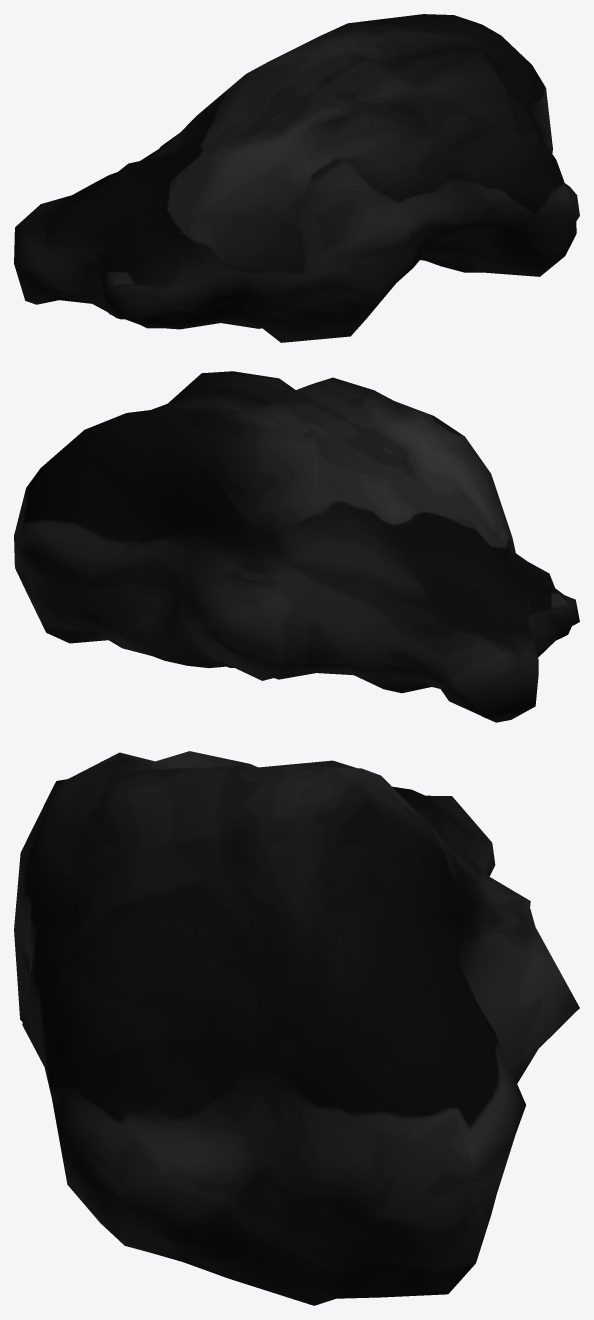
The model's file is 06-Rock.fbx.
The picture shows the model from 3 angles, top to bottom: view 1: azimuth 30°, elevation 25°; view 2: azimuth 150°, elevation 25°; view 3: azimuth 270°, elevation 25°; orthographic projection. The views are drawn at different scales.
Parts seen in each view (by area): view 1: 06-CoralRock.034; view 2: 06-CoralRock.034; view 3: 06-CoralRock.034.
Part boxes in pixels (<box>): 06-CoralRock.034: <box>14,14,579,342</box>; 06-CoralRock.034: <box>14,371,579,722</box>; 06-CoralRock.034: <box>14,751,579,1305</box>.
Size of the model in its own units: 507 by 239 by 301.
